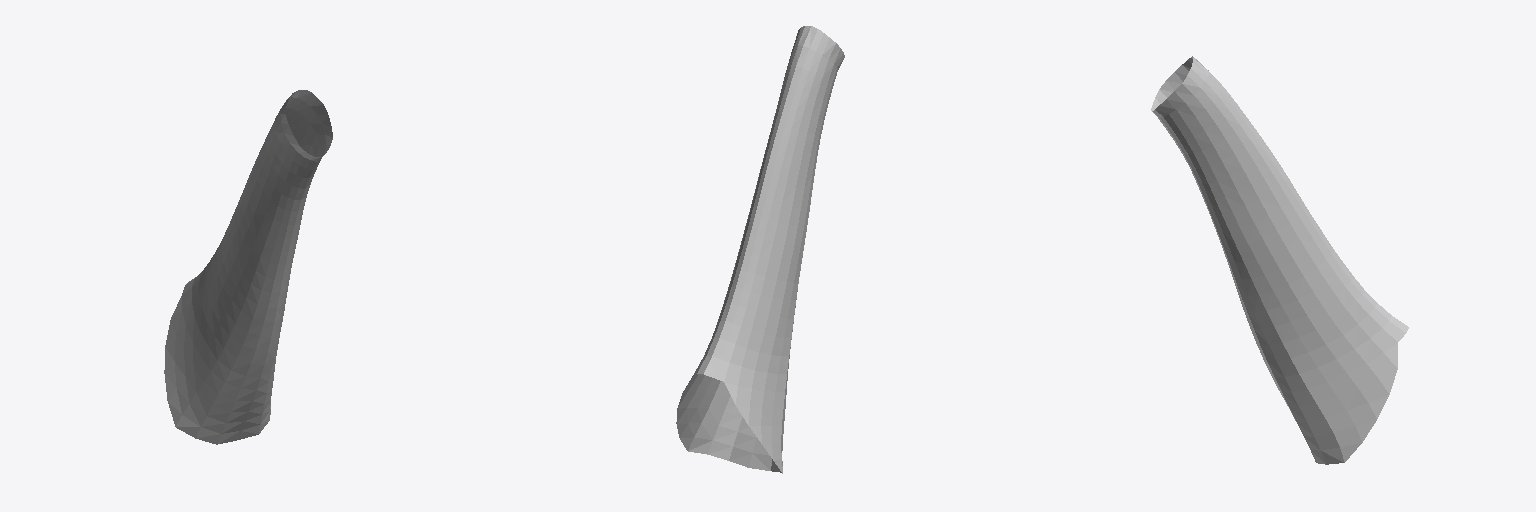
Rendered from Jcuello.obj.
3 views of the same model, side by side, from view 1: azimuth 30°, elevation 25°; view 2: azimuth 150°, elevation 25°; view 3: azimuth 270°, elevation 25° (orthographic).
Parts seen in each view (by area): view 1: Cuello; view 2: Cuello; view 3: Cuello.
Part boxes in pixels (x1,y1,x2,y2): Cuello: (164, 90, 332, 444); Cuello: (676, 26, 844, 473); Cuello: (1151, 56, 1408, 464).
Size of the model in its own units: 0.2437 by 0.963 by 0.5688.